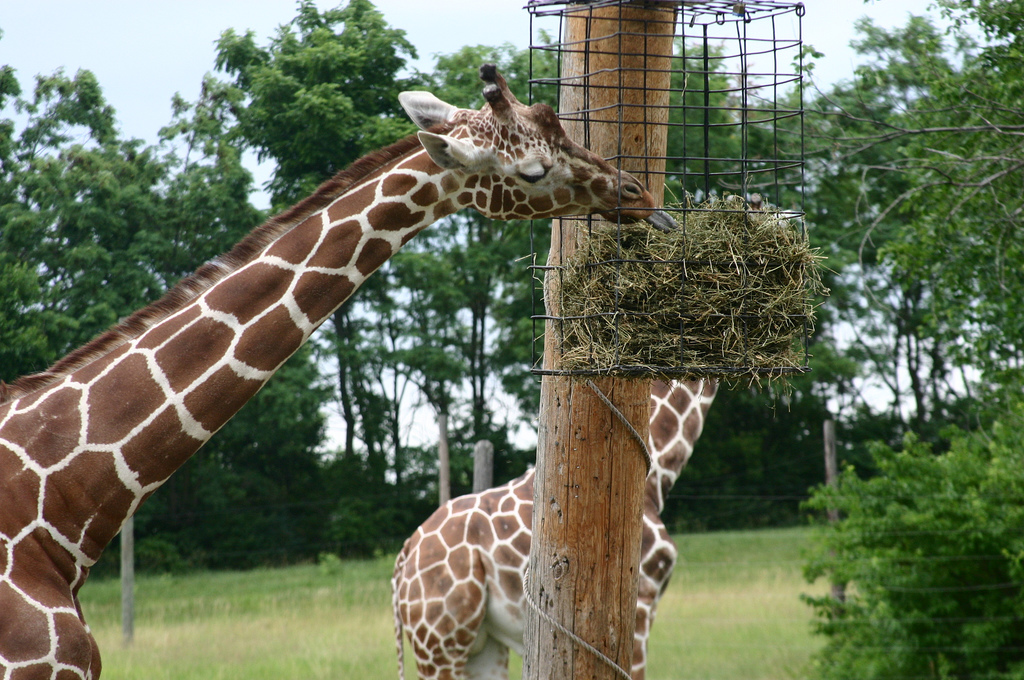giraffe: (19, 80, 631, 643), (379, 173, 823, 679)
